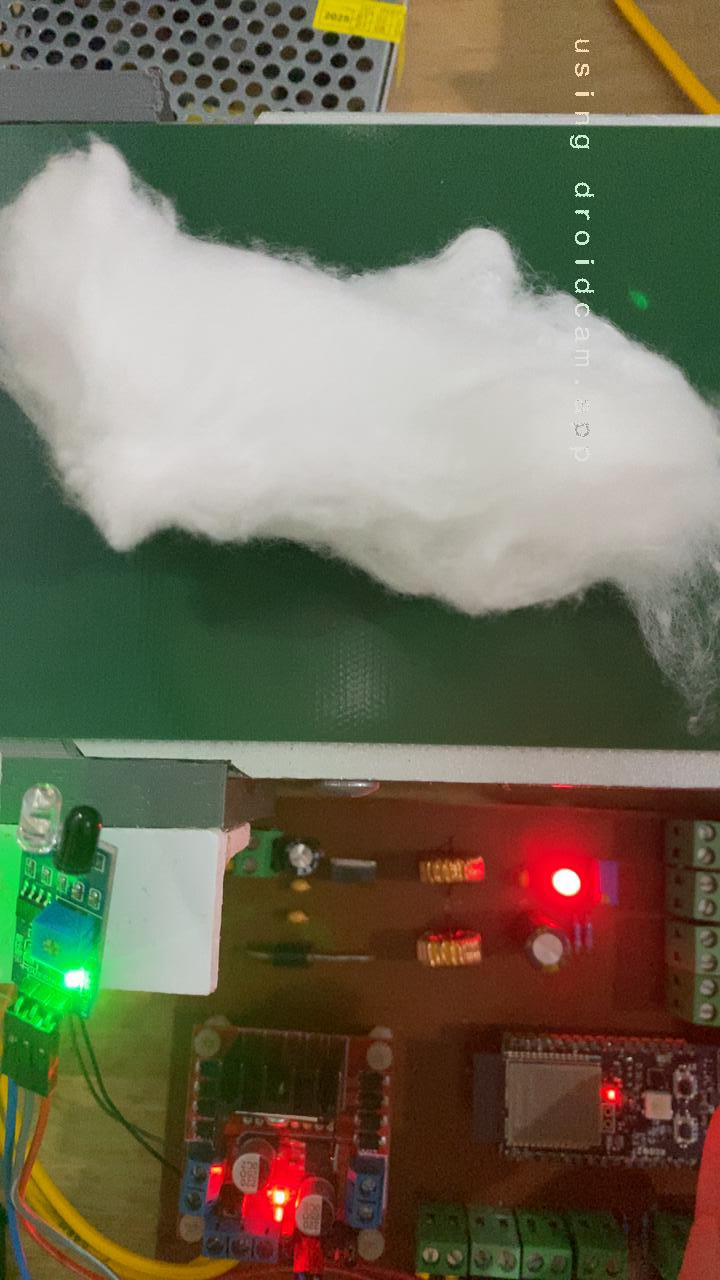cotton: (0, 129, 720, 671)
